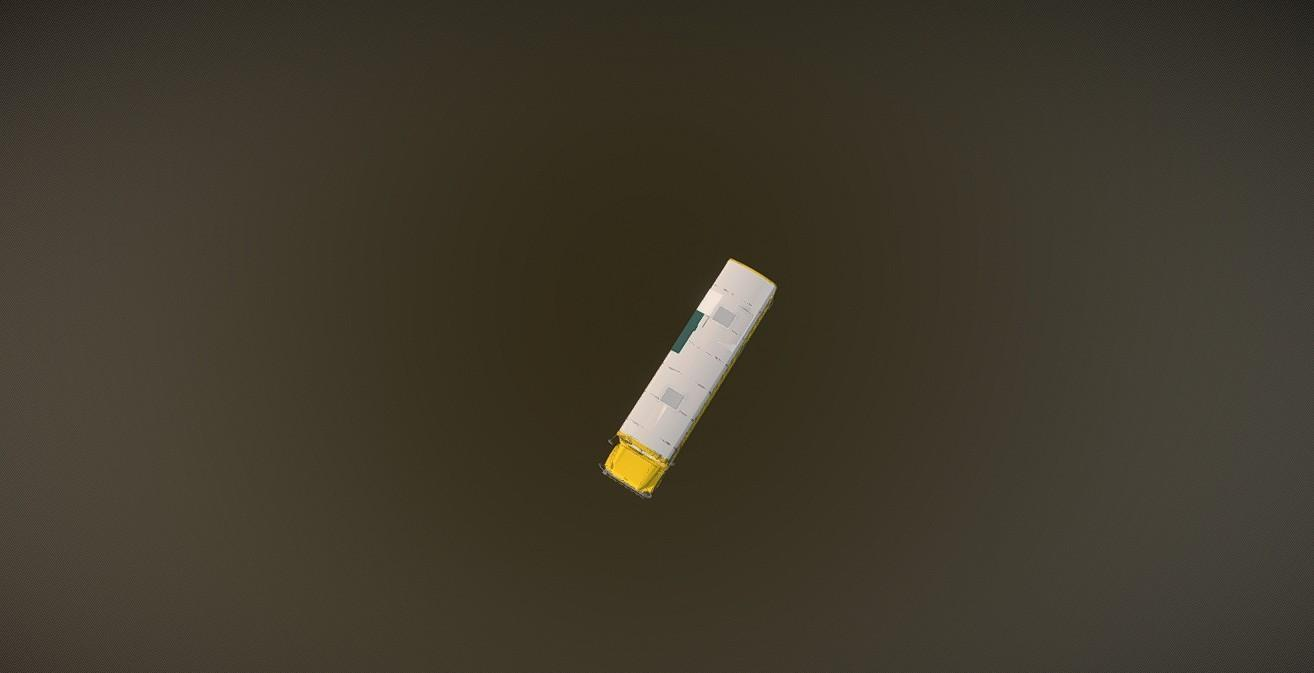Bus: (598, 256, 777, 499)
